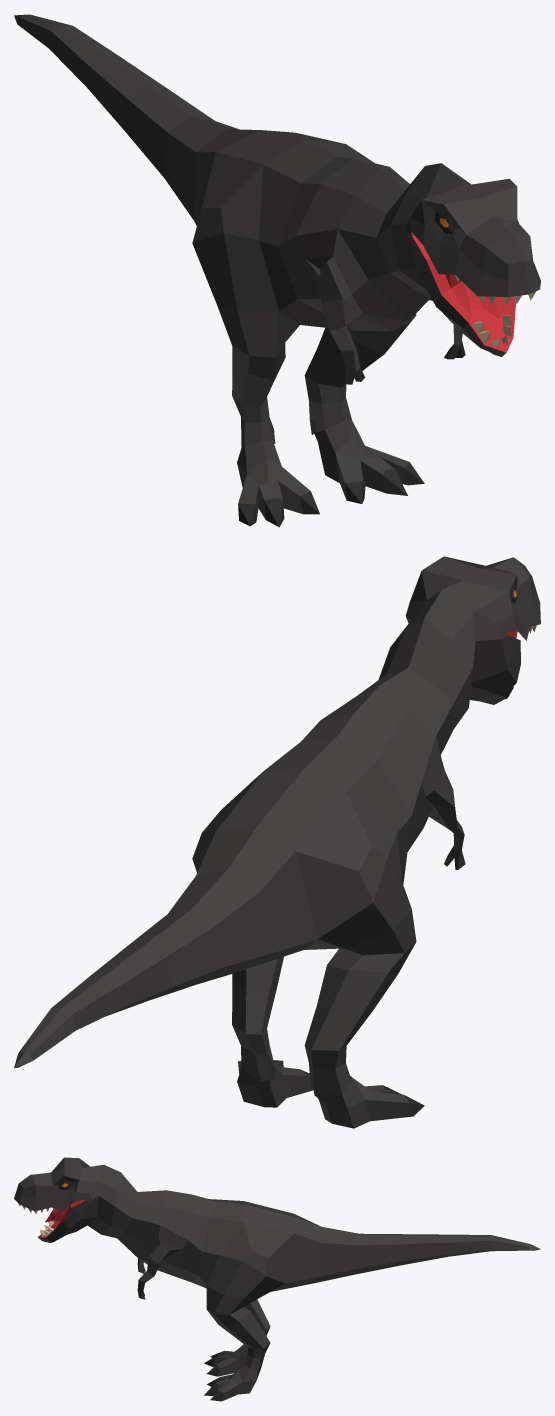
File: t-rex.glb
3 renders of one model, top to bottom at view 1: azimuth 30°, elevation 25°; view 2: azimuth 150°, elevation 25°; view 3: azimuth 270°, elevation 25°, orthographic. The views are drawn at different scales.
Visible parts, largest first — view 1: t-rex; view 2: t-rex; view 3: t-rex.
Part boxes in pixels (x1=…): t-rex: x1=14, y1=14, x2=540, y2=527; t-rex: x1=14, y1=556, x2=540, y2=1128; t-rex: x1=14, y1=1157, x2=540, y2=1401.
Bounding box in the file's own units: 2.25 × 5.02 × 11.1.
Materials: 1 (1 with a texture image).
